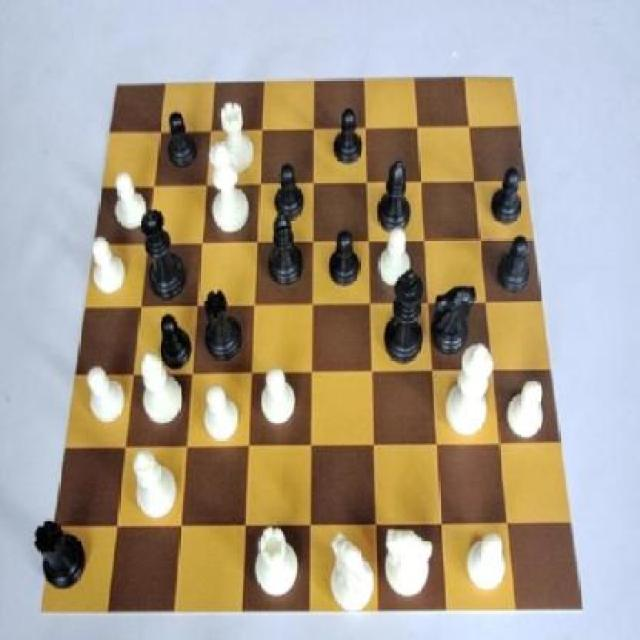bishop: (262, 217, 312, 291), (377, 158, 418, 240)
black-bishop: (383, 263, 427, 369)
black-king: (432, 282, 481, 368)
black-knight: (494, 224, 538, 300), (149, 314, 196, 371), (157, 108, 201, 166), (322, 226, 363, 287), (328, 103, 364, 171), (271, 160, 307, 226), (486, 168, 522, 226)
black-pawn: (136, 206, 197, 304)
black-queen: (31, 516, 90, 594), (203, 290, 245, 364)
black-rook: (126, 451, 184, 522), (136, 354, 184, 426)
white-bishop: (446, 342, 496, 441)
white-king: (382, 524, 436, 608), (322, 537, 378, 615)
white-knight: (78, 363, 132, 431), (196, 381, 248, 447), (88, 235, 134, 302), (466, 531, 511, 598), (505, 374, 549, 441), (257, 361, 296, 434), (105, 171, 150, 234), (377, 228, 415, 294)
white-pawn: (200, 140, 252, 234)
white-queen: (250, 523, 302, 600), (214, 103, 258, 180)
